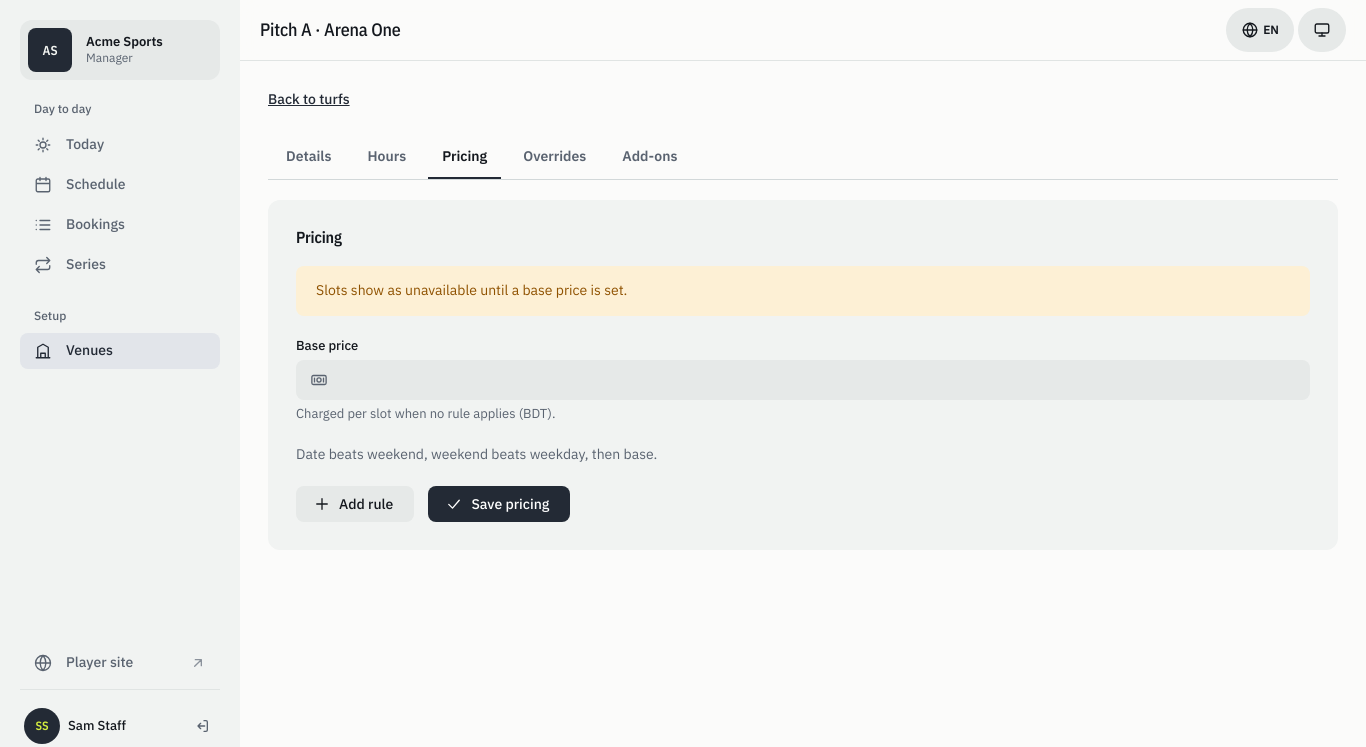
Test: turf editor › pricing editor saves the whole pricing object with PUT
Expected: the text "Slots show as unavailable until a base price is set." is shown, [296, 266, 1310, 316]
Expected: the text "Date beats weekend, weekend beats weekday, then base." is shown, [296, 445, 657, 463]
In the field labelled "Base price": (803, 380) [296, 360, 1310, 400], type "500"
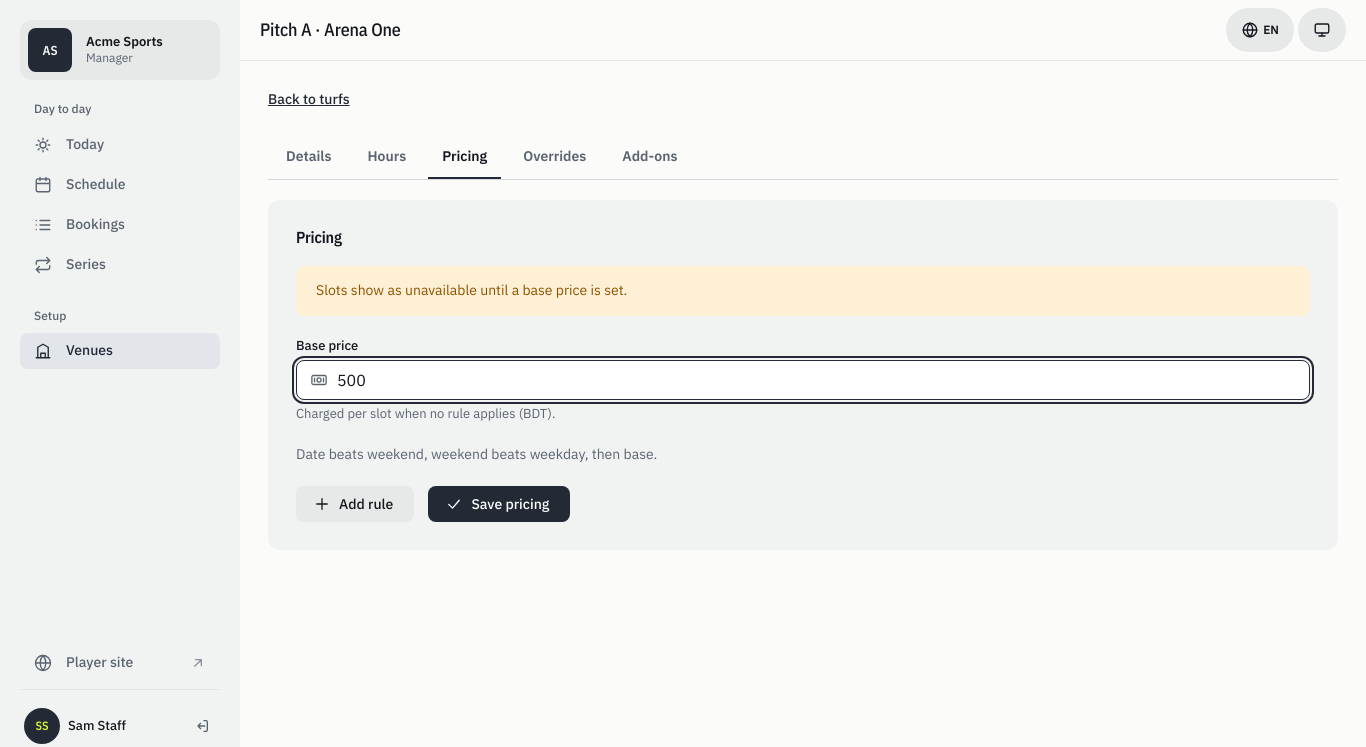
Click the button "Add rule": (355, 504) [296, 486, 414, 522]
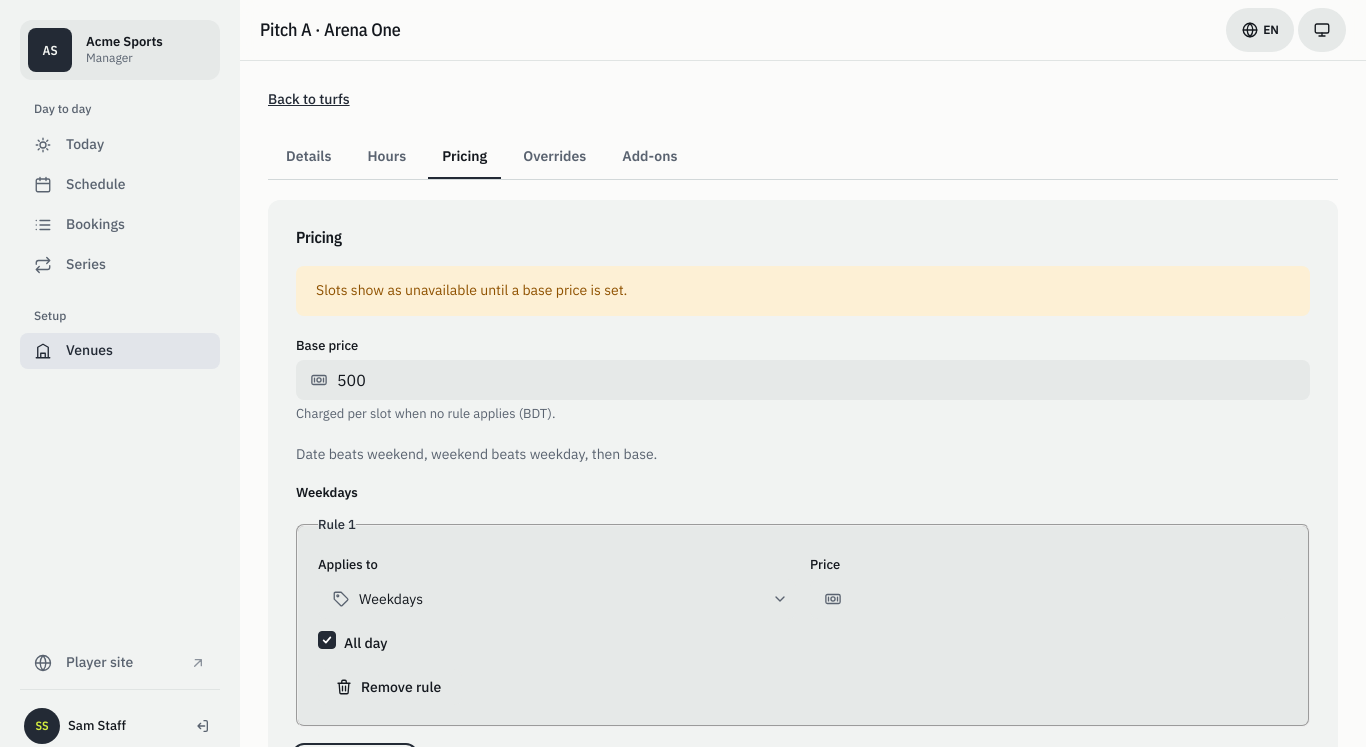
Select "Weekends" in the dropdown labelled "Applies to": (557, 599) [318, 579, 796, 619]
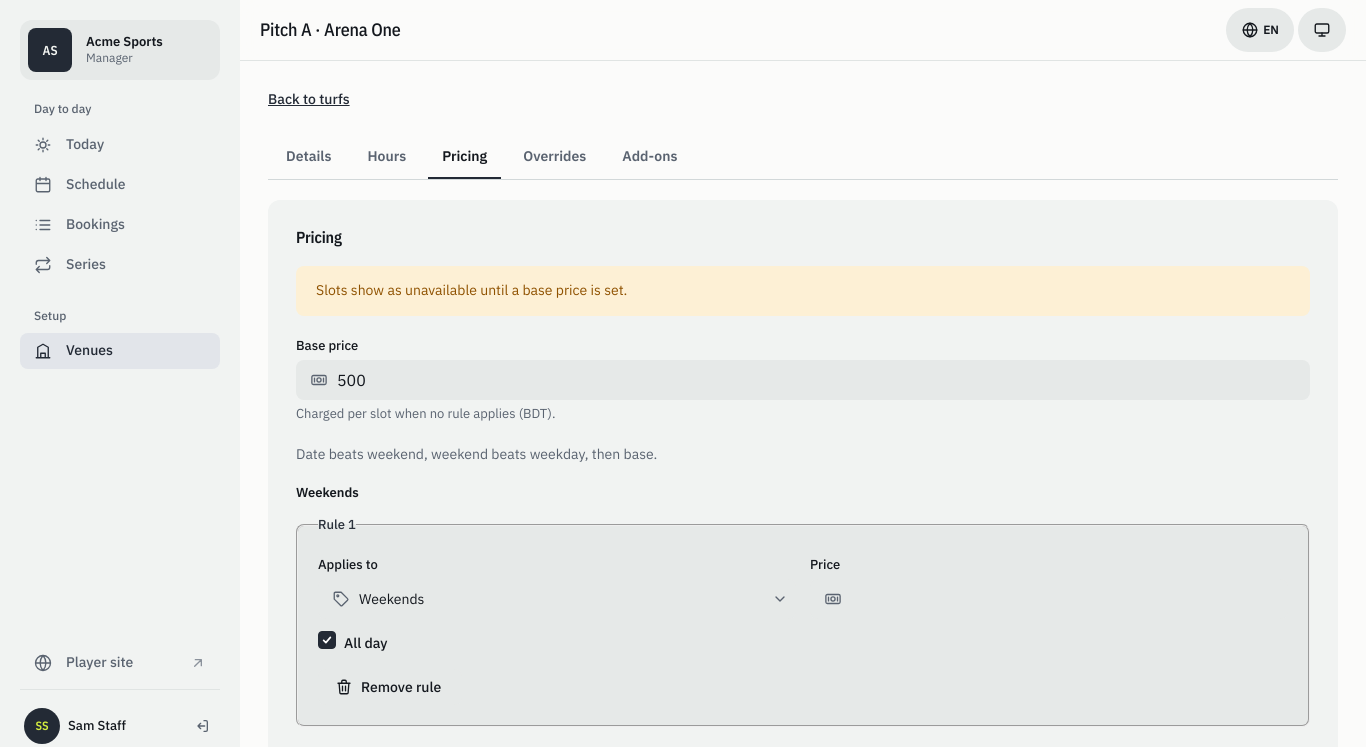
In the field labelled "Price": (1049, 599) [810, 579, 1288, 619], type "800"
(page scrolled)
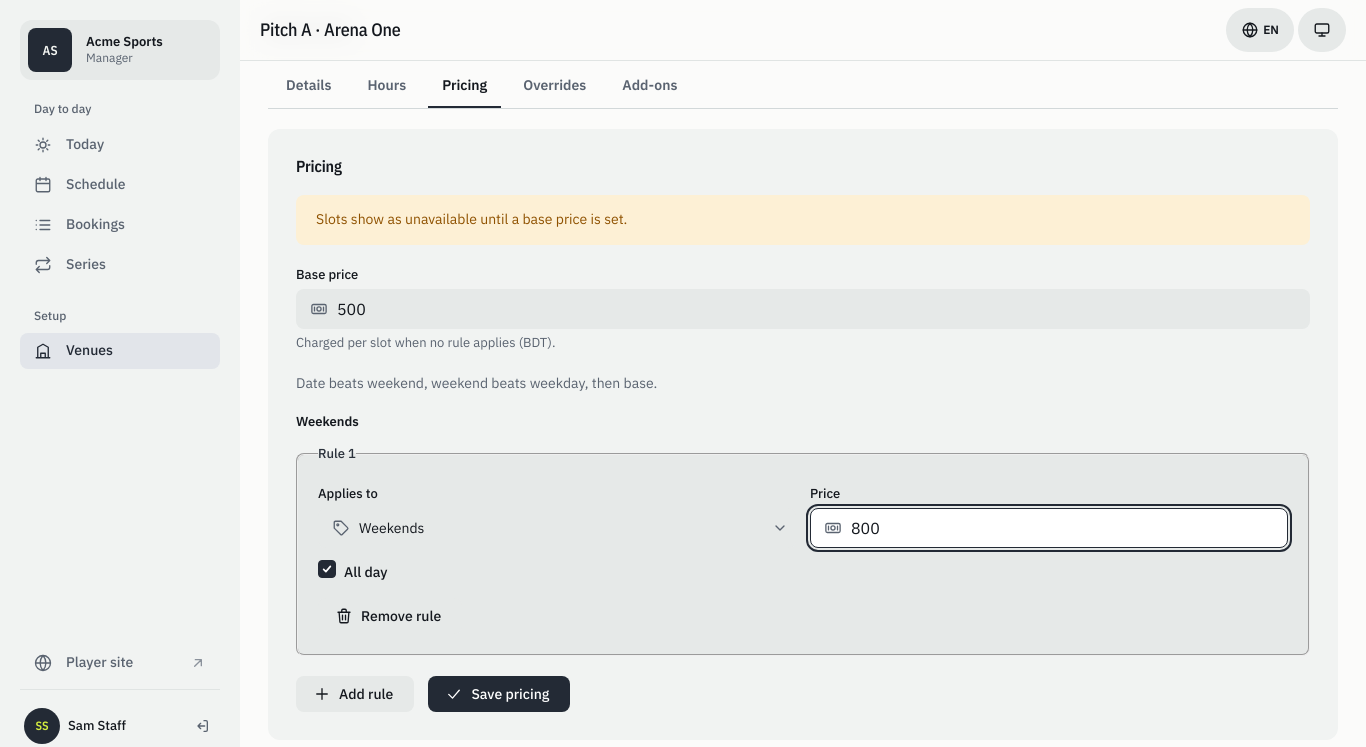
Click the button "Save pricing": (499, 694) [428, 676, 570, 712]
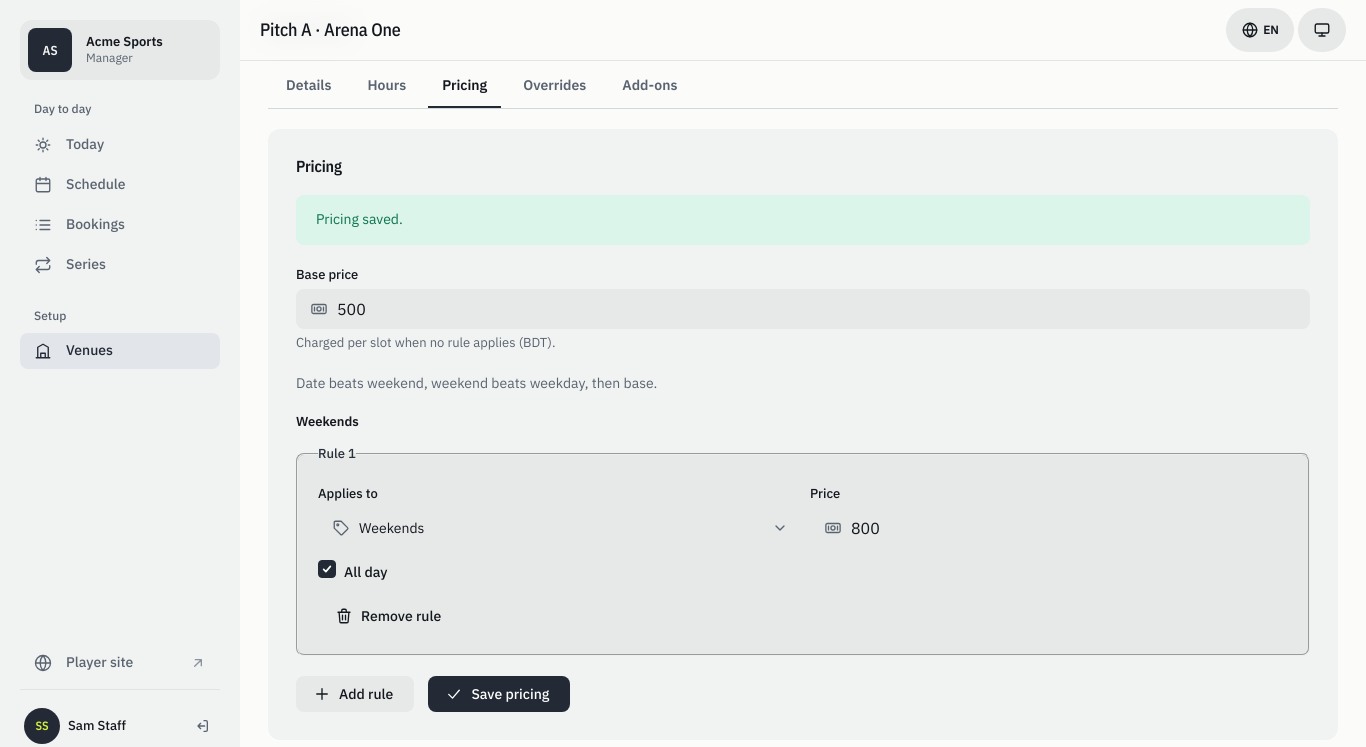
Now the text "Pricing saved." is shown, box [296, 195, 1310, 245]
